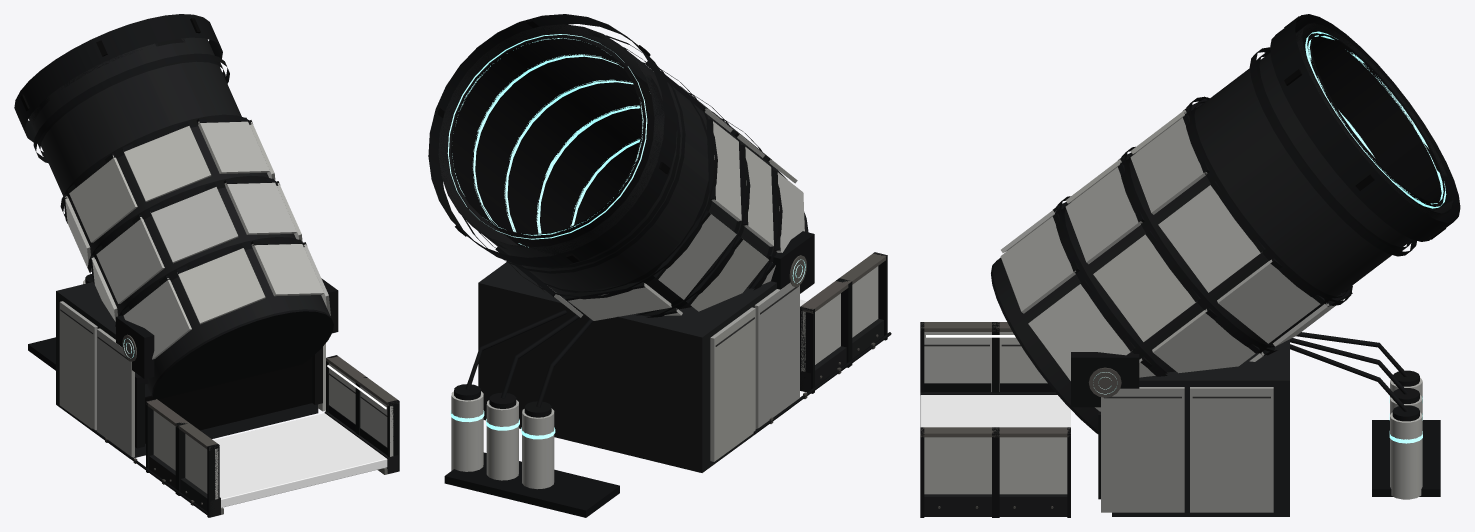
File: cannon.glb
3 renders of one model, left to right at view 1: azimuth 30°, elevation 25°; view 2: azimuth 150°, elevation 25°; view 3: azimuth 270°, elevation 25°, orthographic. The views are drawn at different scales.
Visible parts, largest first — view 1: Barrel, Frame, Belt; view 2: Barrel, Frame; view 3: Barrel, Frame, Belt.
Part boxes in pixels (<box>): Barrel: <box>14,14,333,399</box>; Frame: <box>28,274,399,517</box>; Belt: <box>214,413,387,507</box>; Barrel: <box>428,14,808,320</box>; Frame: <box>444,231,891,517</box>; Barrel: <box>991,14,1460,433</box>; Frame: <box>920,322,1440,517</box>; Belt: <box>920,395,1070,427</box>.
Size of the model in its own units: 1.99 by 3.49 by 3.95.
